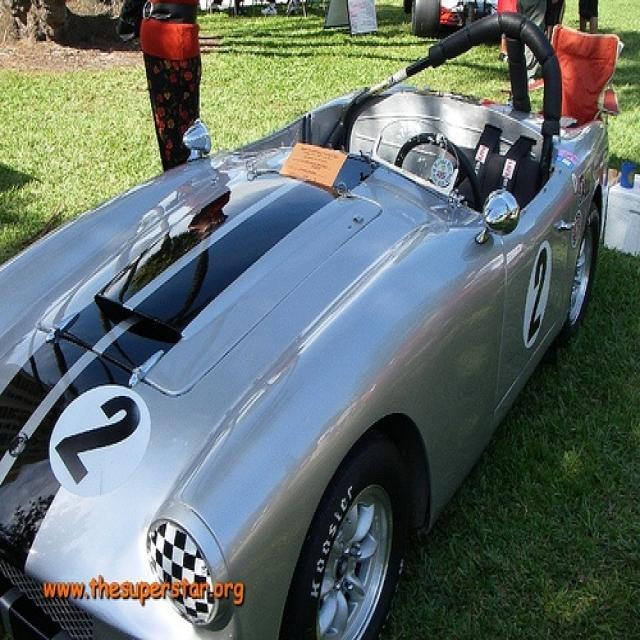car: (2, 21, 606, 636)
